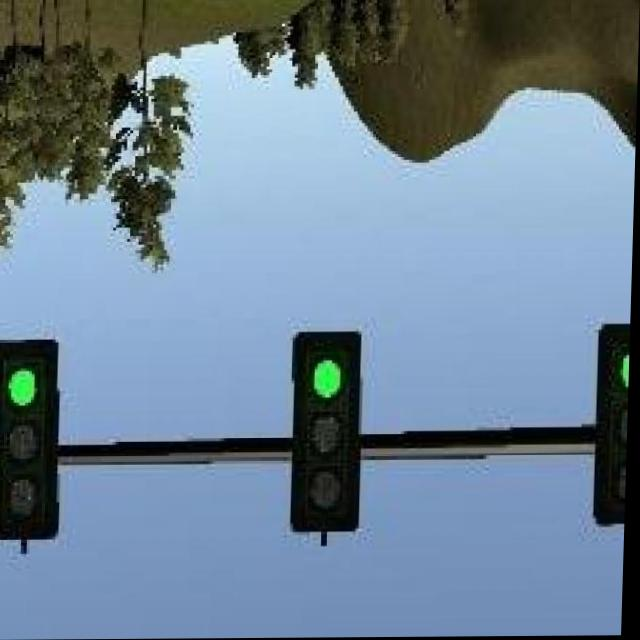green light: (297, 335, 369, 535), (0, 343, 61, 540)
